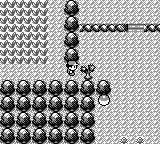captura: (0, 0, 48, 64)
main: (66, 61, 79, 75)
mo: (80, 64, 96, 79)
no-caminable: (0, 80, 111, 143), (64, 0, 80, 61)
poke-ball: (98, 94, 110, 106)
salto: (81, 24, 127, 32), (145, 24, 159, 31)
